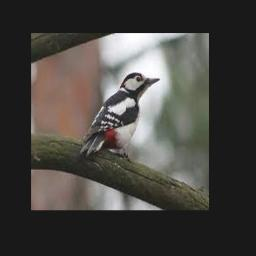Woodpecker: (80, 73, 161, 161)
